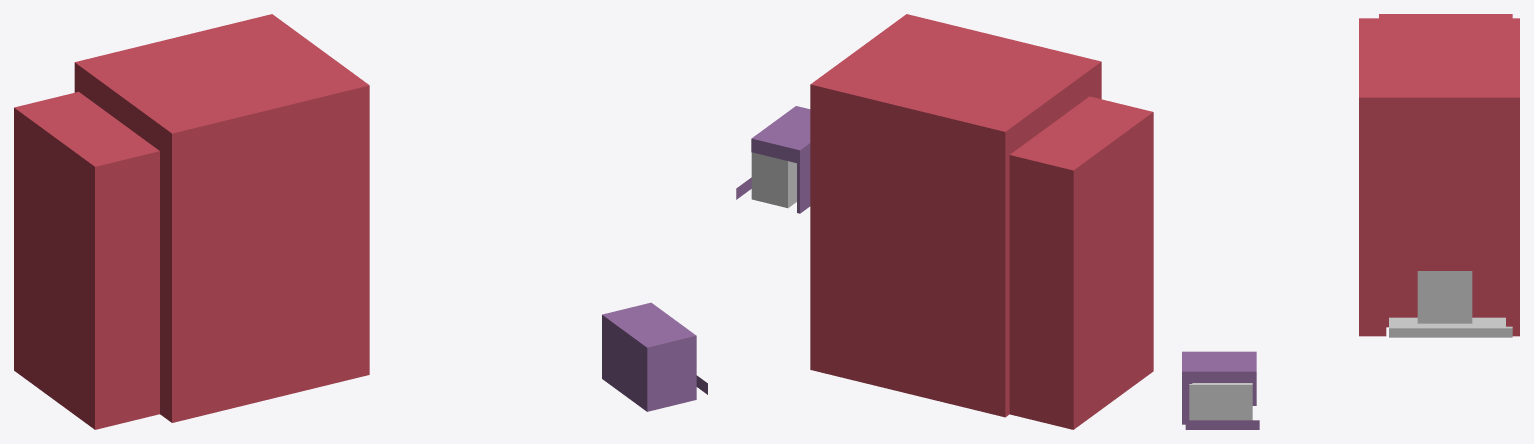
The model's file is Project side table model.glb.
The picture shows the model from 3 angles, left to right: view 1: azimuth 30°, elevation 25°; view 2: azimuth 150°, elevation 25°; view 3: azimuth 270°, elevation 25°; orthographic projection. The views are drawn at different scales.
Parts seen in each view (by area): view 1: Mesh_Mesh_head_geo.001_lambert2SG.001; view 2: Mesh_Mesh_head_geo.001_lambert2SG.001; view 3: Mesh_Mesh_head_geo.001_lambert2SG.001.
Part boxes in pixels (x1,y1,x2,y2): Mesh_Mesh_head_geo.001_lambert2SG.001: [14, 14, 707, 429]; Mesh_Mesh_head_geo.001_lambert2SG.001: [736, 14, 1153, 429]; Mesh_Mesh_head_geo.001_lambert2SG.001: [1182, 14, 1519, 429].
Size of the model in its own units: 134 by 74.82 by 96.
